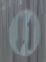Two way: (5, 5, 41, 61)
